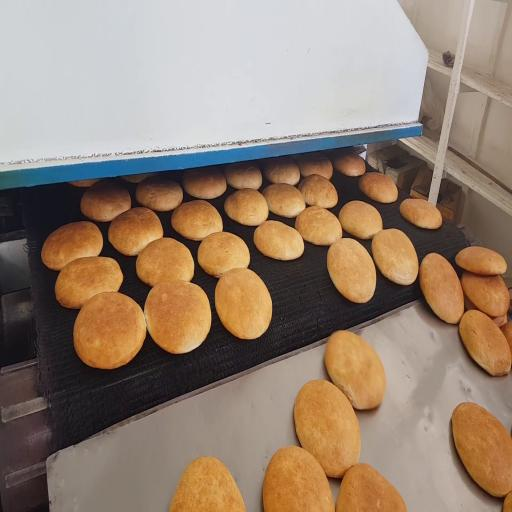bread: (294, 380, 360, 477), (452, 403, 511, 496), (74, 293, 146, 369), (144, 280, 211, 353), (325, 331, 386, 409), (263, 447, 334, 511), (170, 457, 245, 511), (215, 268, 272, 339), (55, 256, 123, 309), (459, 310, 511, 375), (336, 464, 406, 511), (419, 253, 464, 324), (327, 238, 376, 303), (42, 221, 103, 270), (136, 238, 194, 286), (108, 207, 163, 255), (372, 229, 418, 285), (198, 232, 250, 277), (461, 272, 509, 316), (81, 180, 131, 221), (171, 200, 222, 240), (254, 220, 304, 260), (295, 207, 342, 246), (339, 201, 382, 239), (224, 189, 268, 226), (136, 176, 182, 211), (263, 183, 305, 218), (456, 247, 507, 275), (183, 167, 226, 199), (299, 174, 337, 208), (400, 199, 442, 229), (359, 173, 397, 203), (224, 162, 262, 190), (263, 157, 300, 185), (296, 154, 332, 179), (331, 152, 365, 176), (122, 173, 156, 183), (501, 322, 511, 351), (69, 179, 100, 187), (490, 315, 506, 327), (503, 493, 511, 511)
